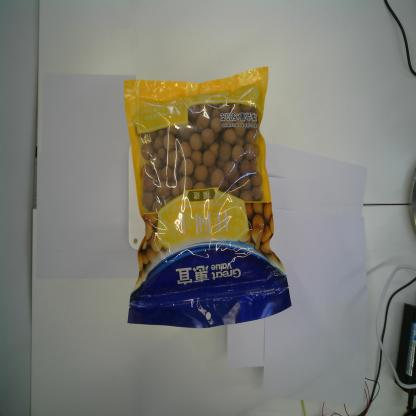Dried Food: (123, 66, 292, 330)
